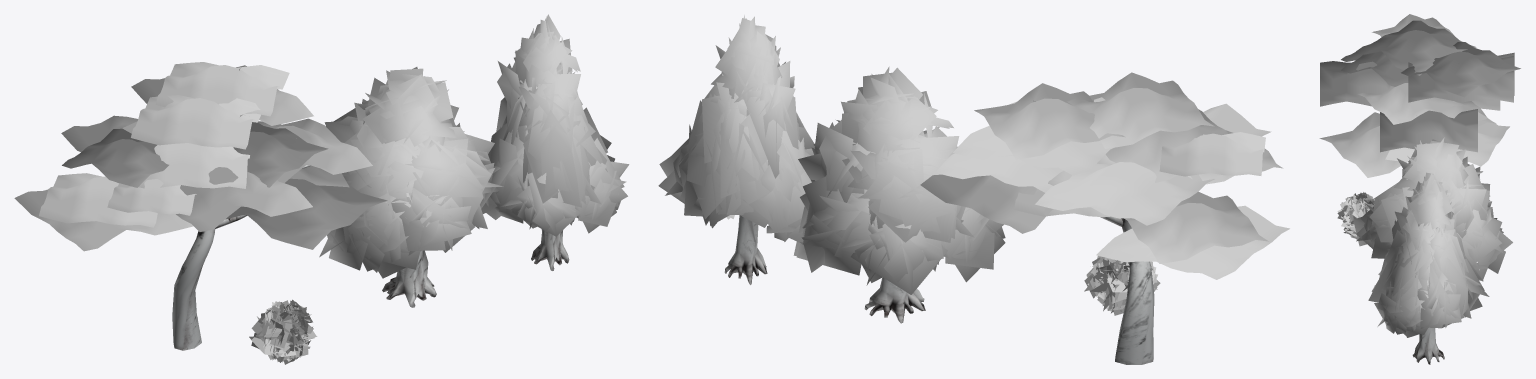
Rendered from BgMD_Field_Tree_Set.fbx.
The picture shows the model from 3 angles, left to right: view 1: azimuth 30°, elevation 25°; view 2: azimuth 150°, elevation 25°; view 3: azimuth 270°, elevation 25°; orthographic projection. The views are drawn at different scales.
Visible parts, largest first — view 1: Leaf1, leaf2, leaf3, SM_Plant_002, trunk1, trunk2, trunk3; view 2: Leaf1, leaf2, leaf3, trunk1, SM_Plant_002, trunk3, trunk2; view 3: Leaf1, leaf3, leaf2, SM_Plant_002, trunk3.
Boxes of the visible parts, x1=… form: Leaf1: x1=14, y1=62, x2=387, y2=251; leaf2: x1=319, y1=67, x2=503, y2=278; leaf3: x1=486, y1=14, x2=629, y2=236; SM_Plant_002: x1=249, y1=299, x2=317, y2=364; trunk1: x1=172, y1=68, x2=310, y2=350; trunk2: x1=382, y1=250, x2=436, y2=307; trunk3: x1=531, y1=229, x2=569, y2=270; Leaf1: x1=920, y1=72, x2=1289, y2=279; leaf2: x1=787, y1=66, x2=1005, y2=294; leaf3: x1=658, y1=15, x2=814, y2=241; trunk1: x1=1033, y1=100, x2=1154, y2=364; SM_Plant_002: x1=1084, y1=256, x2=1160, y2=315; trunk3: x1=724, y1=215, x2=767, y2=284; trunk2: x1=864, y1=277, x2=925, y2=323; Leaf1: x1=1319, y1=14, x2=1520, y2=177; leaf3: x1=1368, y1=172, x2=1489, y2=337; leaf2: x1=1353, y1=137, x2=1512, y2=281; SM_Plant_002: x1=1337, y1=192, x2=1374, y2=239; trunk3: x1=1412, y1=327, x2=1444, y2=364.
Bounding box in the file's own units: 1449 × 619 × 583.
